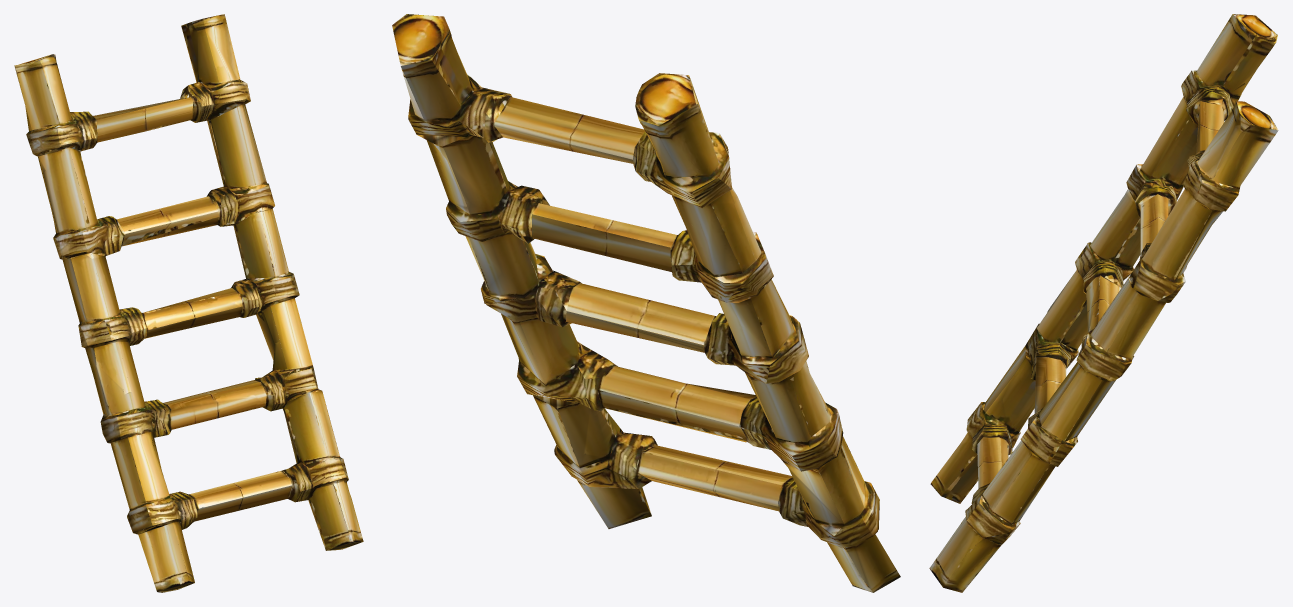
File: turtle-prop-bamboo-ladder.glb
The picture shows the model from 3 angles, left to right: view 1: azimuth 30°, elevation 25°; view 2: azimuth 150°, elevation 25°; view 3: azimuth 270°, elevation 25°; orthographic projection. The views are drawn at different scales.
Parts seen in each view (by area): view 1: Mesh_0; view 2: Mesh_0; view 3: Mesh_0.
Part boxes in pixels (box(x1,y1,x2,y2)): Mesh_0: box(14, 14, 363, 592); Mesh_0: box(392, 14, 900, 592); Mesh_0: box(929, 14, 1278, 592).
Size of the model in its own units: 0.0571 by 0.113 by 0.0738.
1 material, 1 textured.
